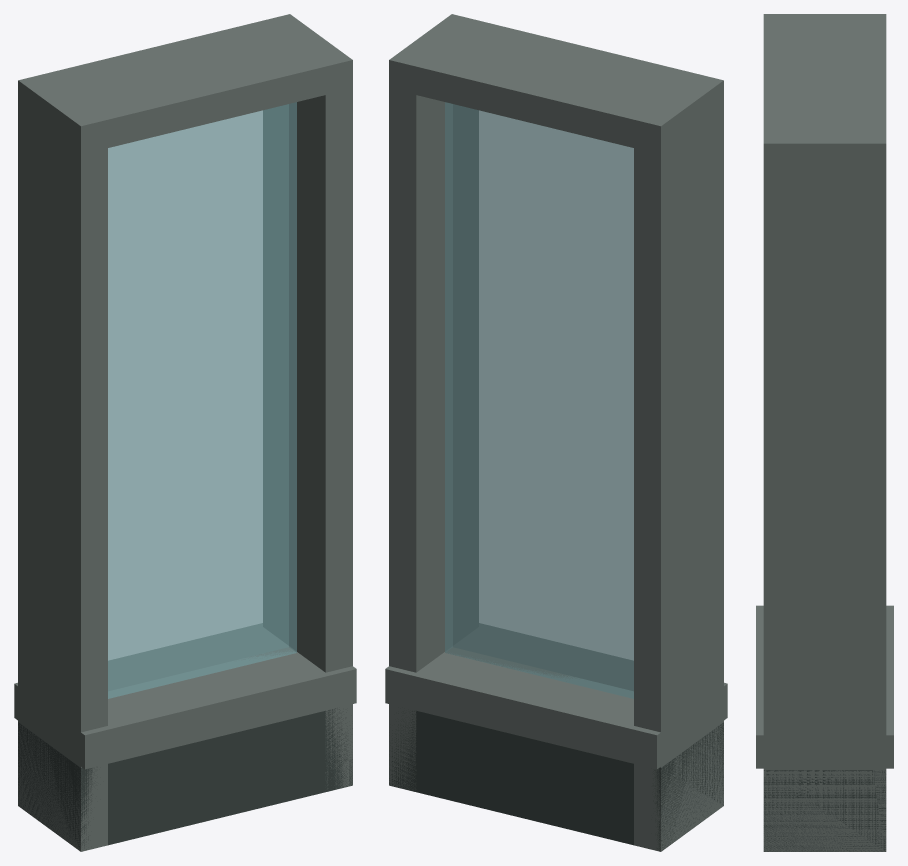
Rendered from CMU3DHybrisaWindow.glb.
3 views of the same model, side by side, from view 1: azimuth 30°, elevation 25°; view 2: azimuth 150°, elevation 25°; view 3: azimuth 270°, elevation 25° (orthographic). The views are drawn at different scales.
Parts seen in each view (by area): view 1: tinted glass, left jamb, right jamb, sill, under-window panel, lintel; view 2: tinted glass, left jamb, right jamb, sill, under-window panel, lintel; view 3: right jamb, lintel, under-window panel, sill, left jamb.
Part boxes in pixels (x1,y1,x2,y2): tinted glass: (108,102,296,698); left jamb: (18,74,107,851); right jamb: (263,14,352,789); sill: (14,623,356,769); under-window panel: (18,708,352,851); lintel: (18,15,352,154); tinted glass: (445,102,633,698); left jamb: (634,74,723,851); right jamb: (389,14,478,791); sill: (385,623,727,769); under-window panel: (389,710,723,851); lintel: (389,14,723,154); right jamb: (763,130,886,851); lintel: (763,14,886,171); under-window panel: (763,770,886,851); sill: (756,605,893,768); left jamb: (763,14,886,26).
Bounding box in the file's own units: 1 × 2.55 × 0.45.
